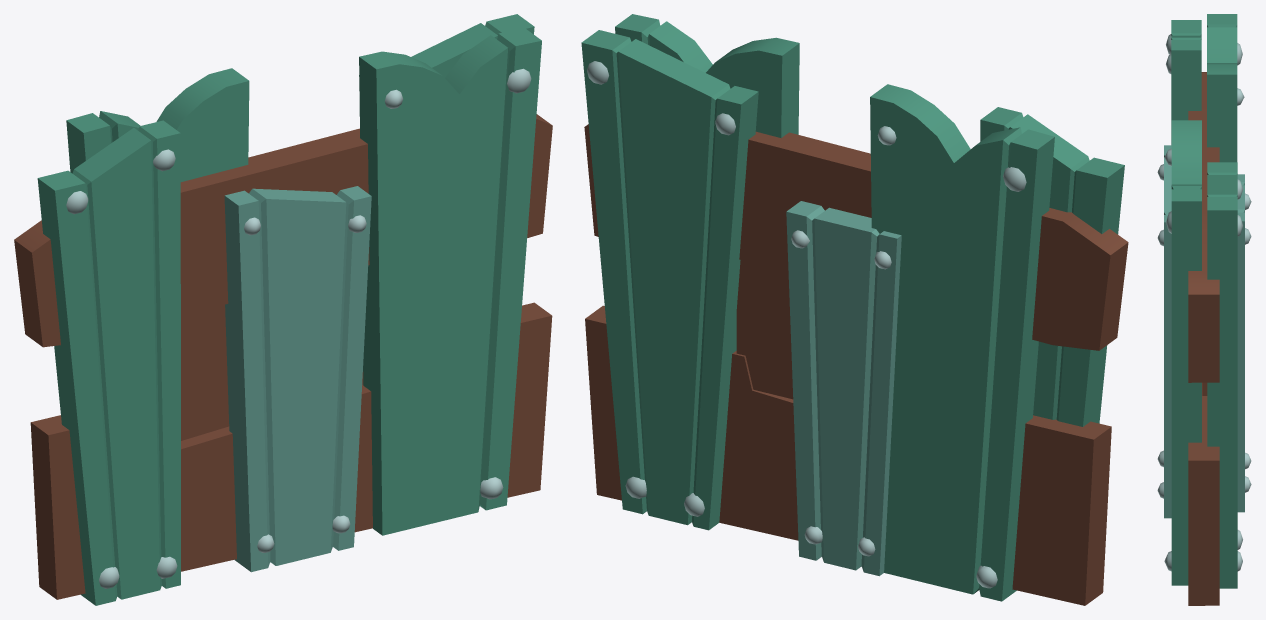
Rendered from BR_Gate_4x3.5x1.fbx.
The picture shows the model from 3 angles, left to right: view 1: azimuth 30°, elevation 25°; view 2: azimuth 150°, elevation 25°; view 3: azimuth 270°, elevation 25°; orthographic projection. The views are drawn at different scales.
Parts seen in each view (by area): view 1: BR_Gate_4x3x1; view 2: BR_Gate_4x3x1; view 3: BR_Gate_4x3x1.
Boxes of the visible parts, x1,y1,x2,y2 form: BR_Gate_4x3x1: [14, 14, 552, 605]; BR_Gate_4x3x1: [581, 14, 1128, 605]; BR_Gate_4x3x1: [1157, 14, 1251, 605].
Bounding box in the file's own units: 423 × 365 × 75.5.
